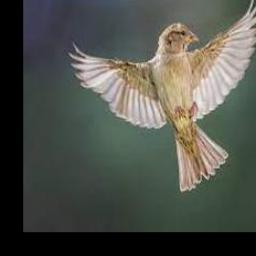Sparrow: (68, 0, 256, 191)
